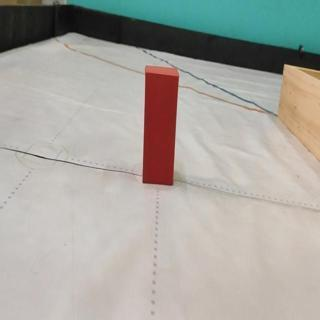redbox: (141, 63, 179, 185)
